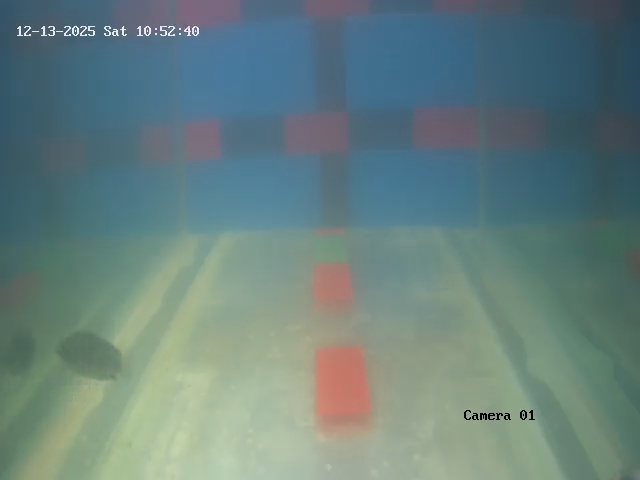fish: (47, 320, 125, 387)
